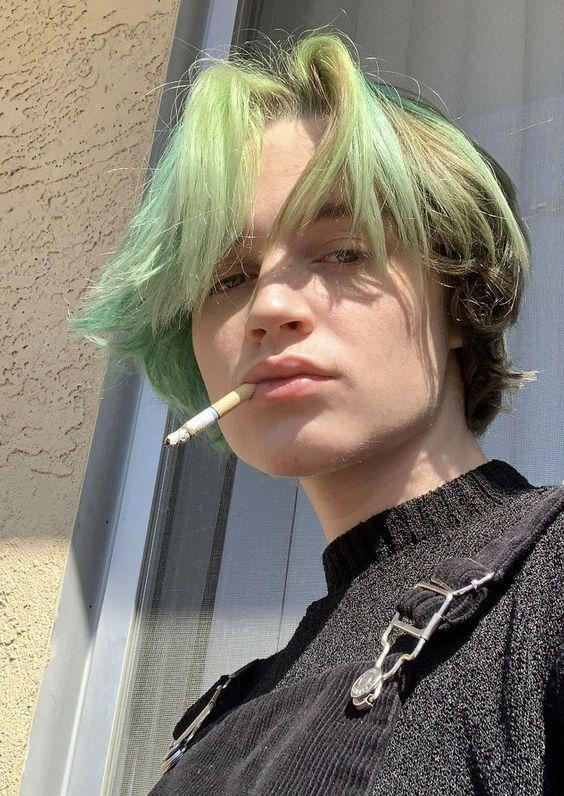cigarette: (161, 382, 258, 451)
